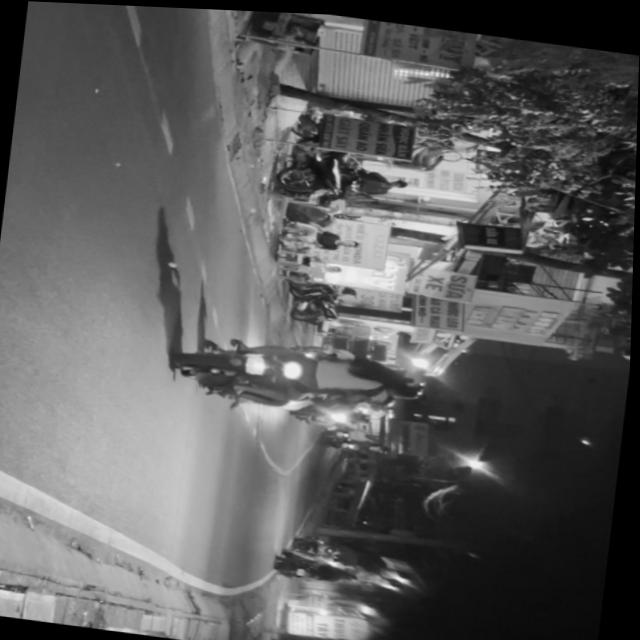helmet: (380, 361, 431, 388)
licenseplate: (168, 323, 437, 426)
nohelmet: (245, 350, 269, 373)
